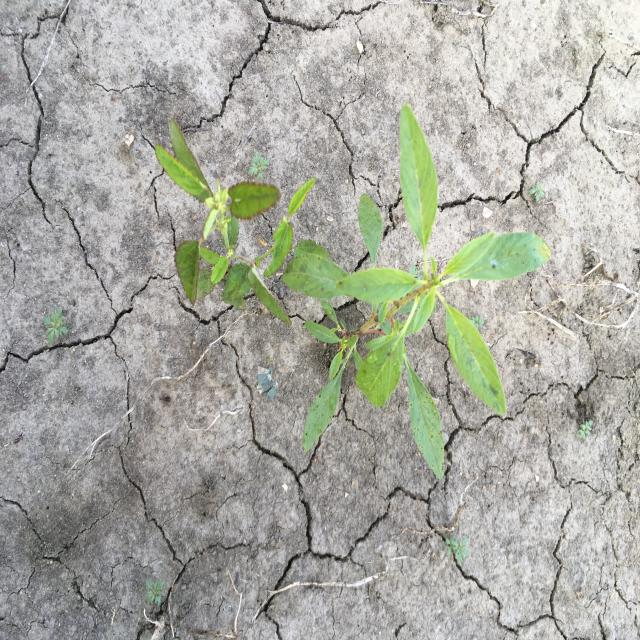PricklySida: (154, 116, 316, 327)
Ragweed: (41, 307, 69, 347), (246, 149, 273, 182), (143, 576, 167, 610)
Waterhemp: (280, 103, 553, 483)
